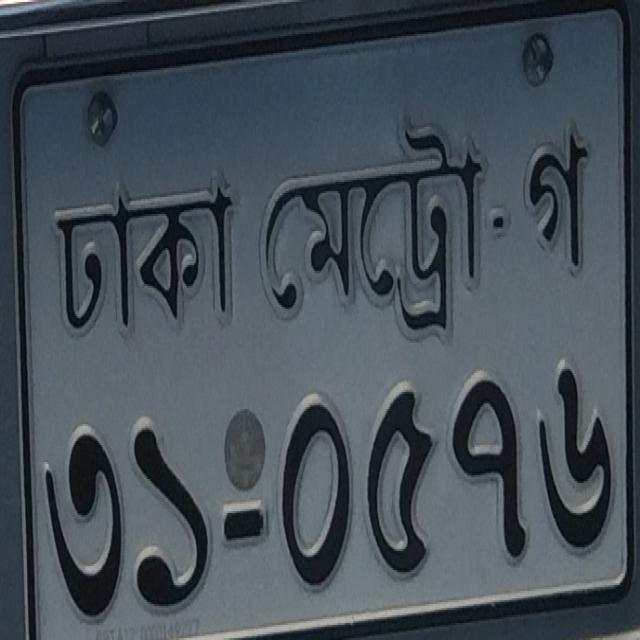numberplate: (2, 0, 635, 637)
